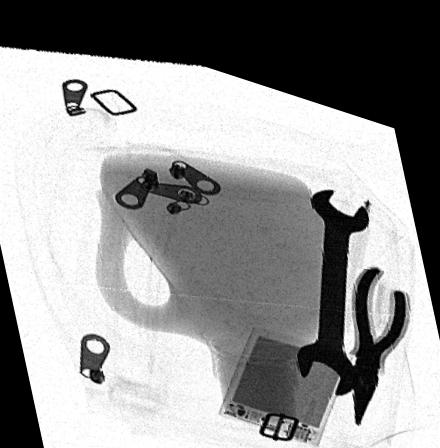Pliers: (350, 242, 408, 402)
Powerbank: (215, 309, 347, 427)
Wrench: (293, 167, 367, 373)
